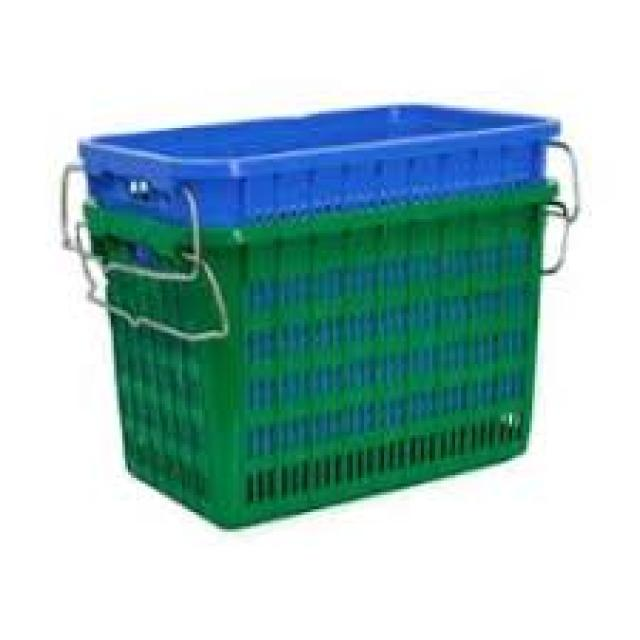basket: (55, 40, 628, 549), (79, 73, 568, 247)
